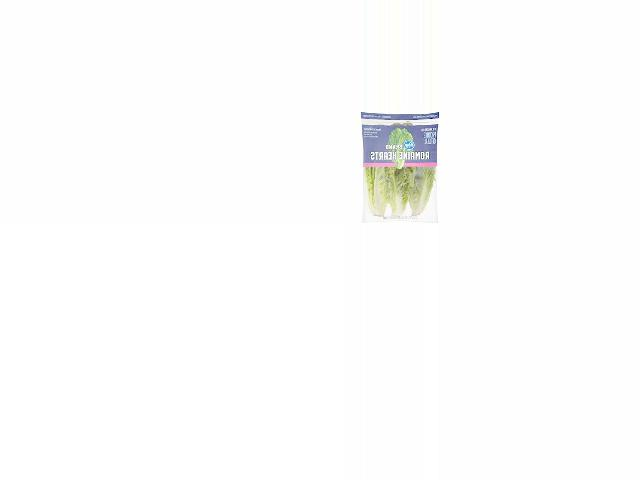lettuce: (357, 114, 442, 219)
